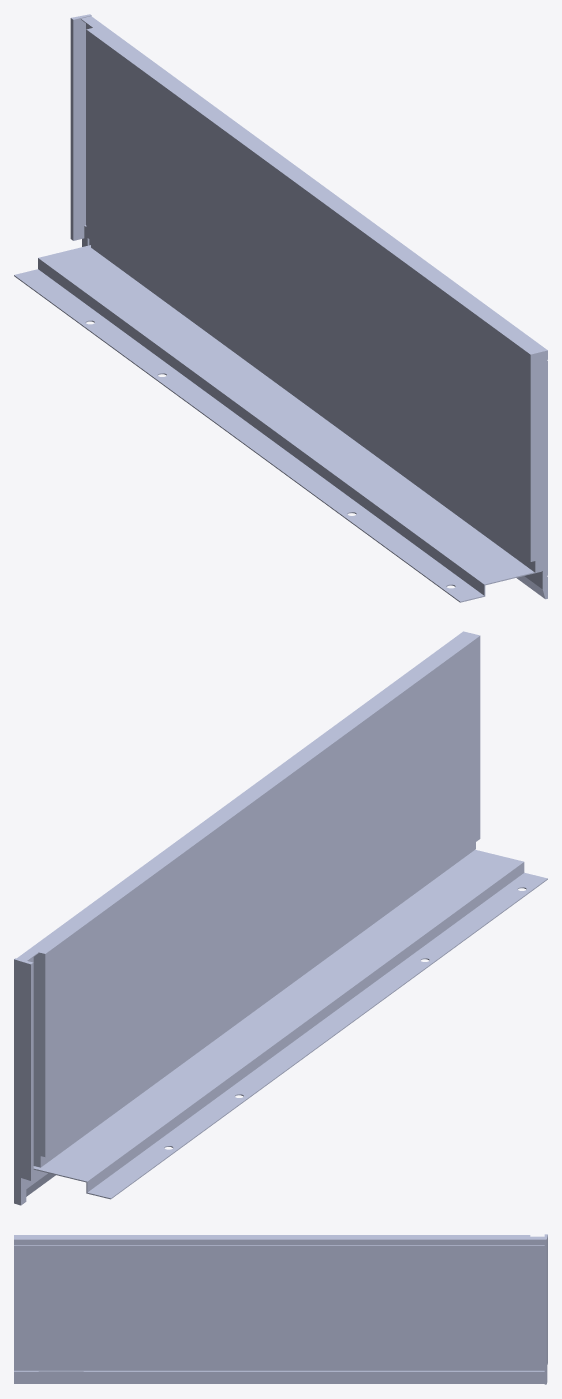
The model's file is lg-kava-C600-m.glb.
3 views of the same model, one above another, from view 1: azimuth 30°, elevation 25°; view 2: azimuth 150°, elevation 25°; view 3: azimuth 270°, elevation 25° (orthographic). The views are drawn at different scales.
Visible parts, largest first — view 1: 44353515; view 2: 44353515; view 3: 44353515.
Part boxes in pixels (x1,y1,x2,y2): 44353515: (14, 14, 547, 602); 44353515: (14, 631, 547, 1205); 44353515: (14, 1234, 547, 1384).
Bounding box in the file's own units: 0.0653 × 0.1777 × 0.5935.
